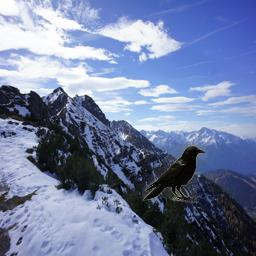Crow: (142, 144, 206, 203)
